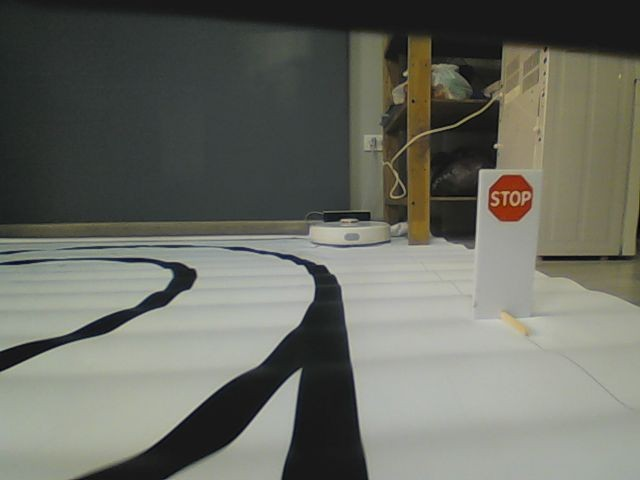Stop: (484, 171, 536, 223)
